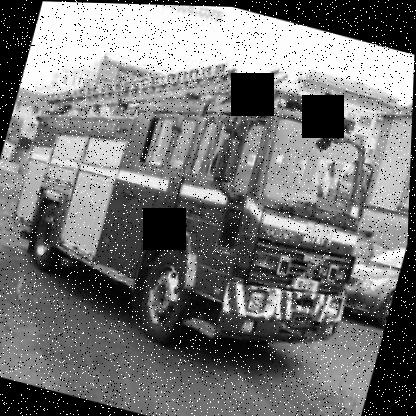emergency: (0, 9, 406, 389)
